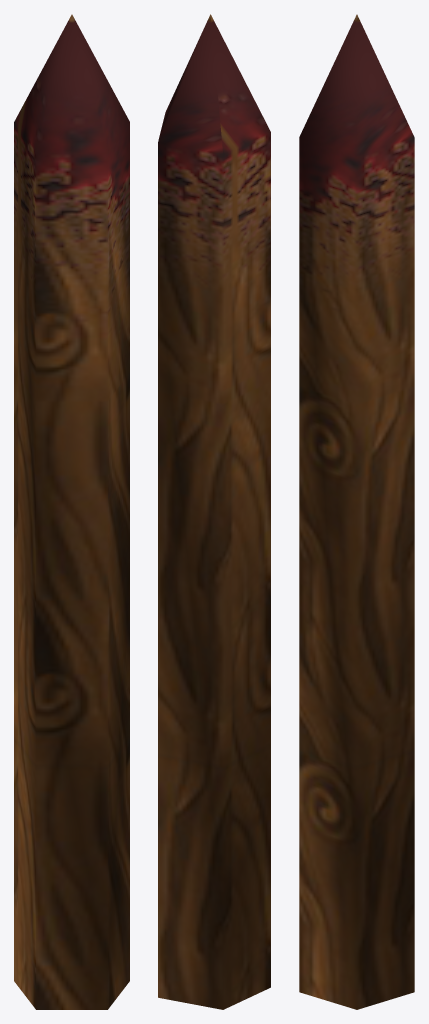
The model's file is diken2.FBX.
The picture shows the model from 3 angles, left to right: view 1: azimuth 90°, elevation 25°; view 2: azimuth 210°, elevation 25°; view 3: azimuth 270°, elevation 25°; orthographic projection.
Visible parts, largest first — view 1: Cylinder01; view 2: Cylinder01; view 3: Cylinder01.
Boxes of the visible parts, box(x1,y1,x2,y2) form: Cylinder01: box(14, 14, 129, 1009); Cylinder01: box(158, 14, 270, 1009); Cylinder01: box(299, 14, 414, 1009).
Bounding box in the file's own units: 27.77 × 271 × 29.19.
